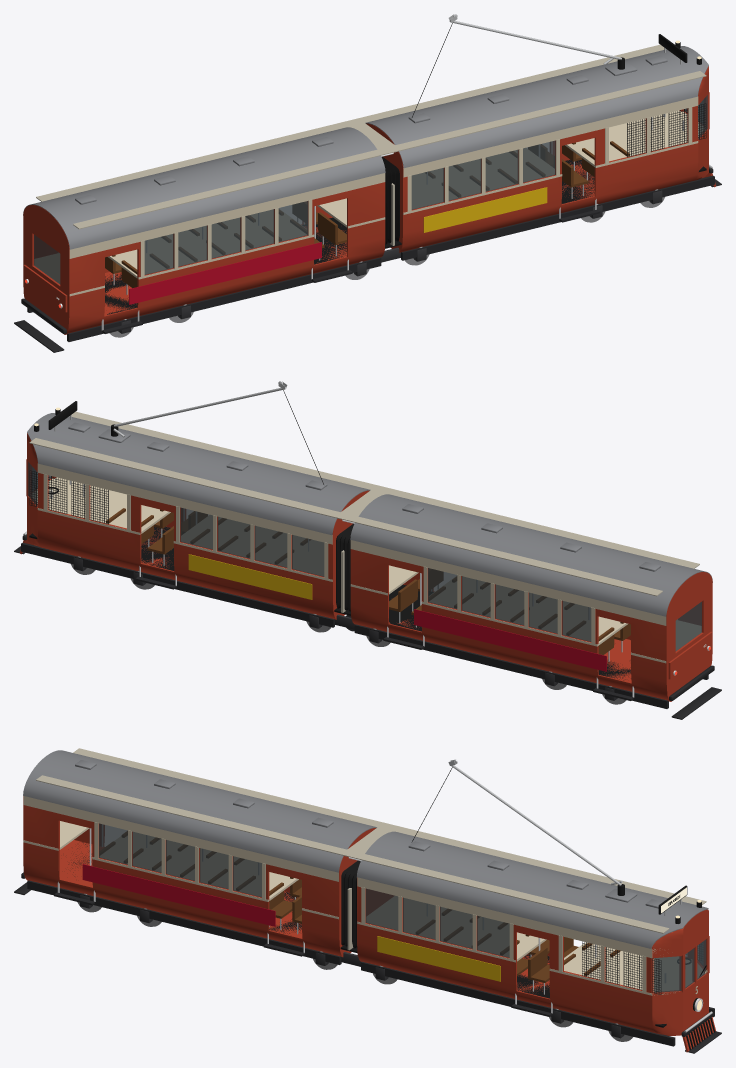
Rendered from TRAM_CTC.glb.
3 renders of one model, top to bottom at view 1: azimuth 30°, elevation 25°; view 2: azimuth 150°, elevation 25°; view 3: azimuth 330°, elevation 25°, orthographic.
Parts seen in each view (by area): view 1: TramCTC; view 2: TramCTC; view 3: TramCTC.
Part boxes in pixels (box(x1,y1,x2,y2)): TramCTC: box(14, 14, 721, 352); TramCTC: box(14, 381, 721, 719); TramCTC: box(14, 748, 721, 1053).
Size of the model in its own units: 18.03 by 5.77 by 2.35.
